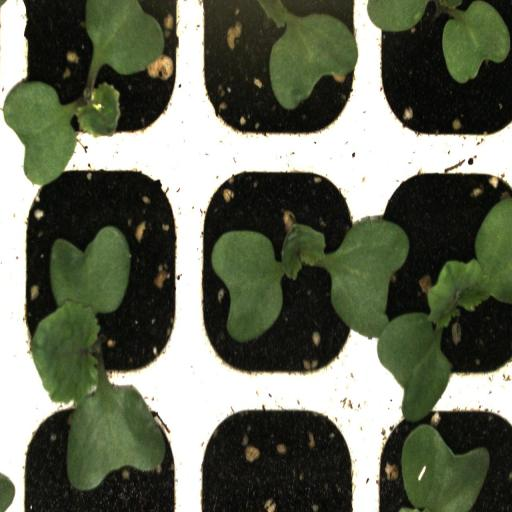seedling: (8, 146, 190, 394), (190, 146, 370, 390), (369, 146, 512, 392), (10, 0, 189, 147)
